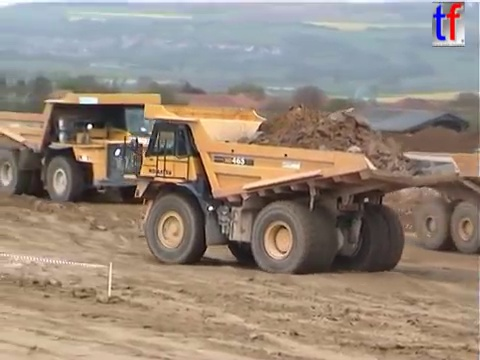truck: (111, 101, 461, 275), (1, 87, 181, 204), (393, 148, 480, 256)
